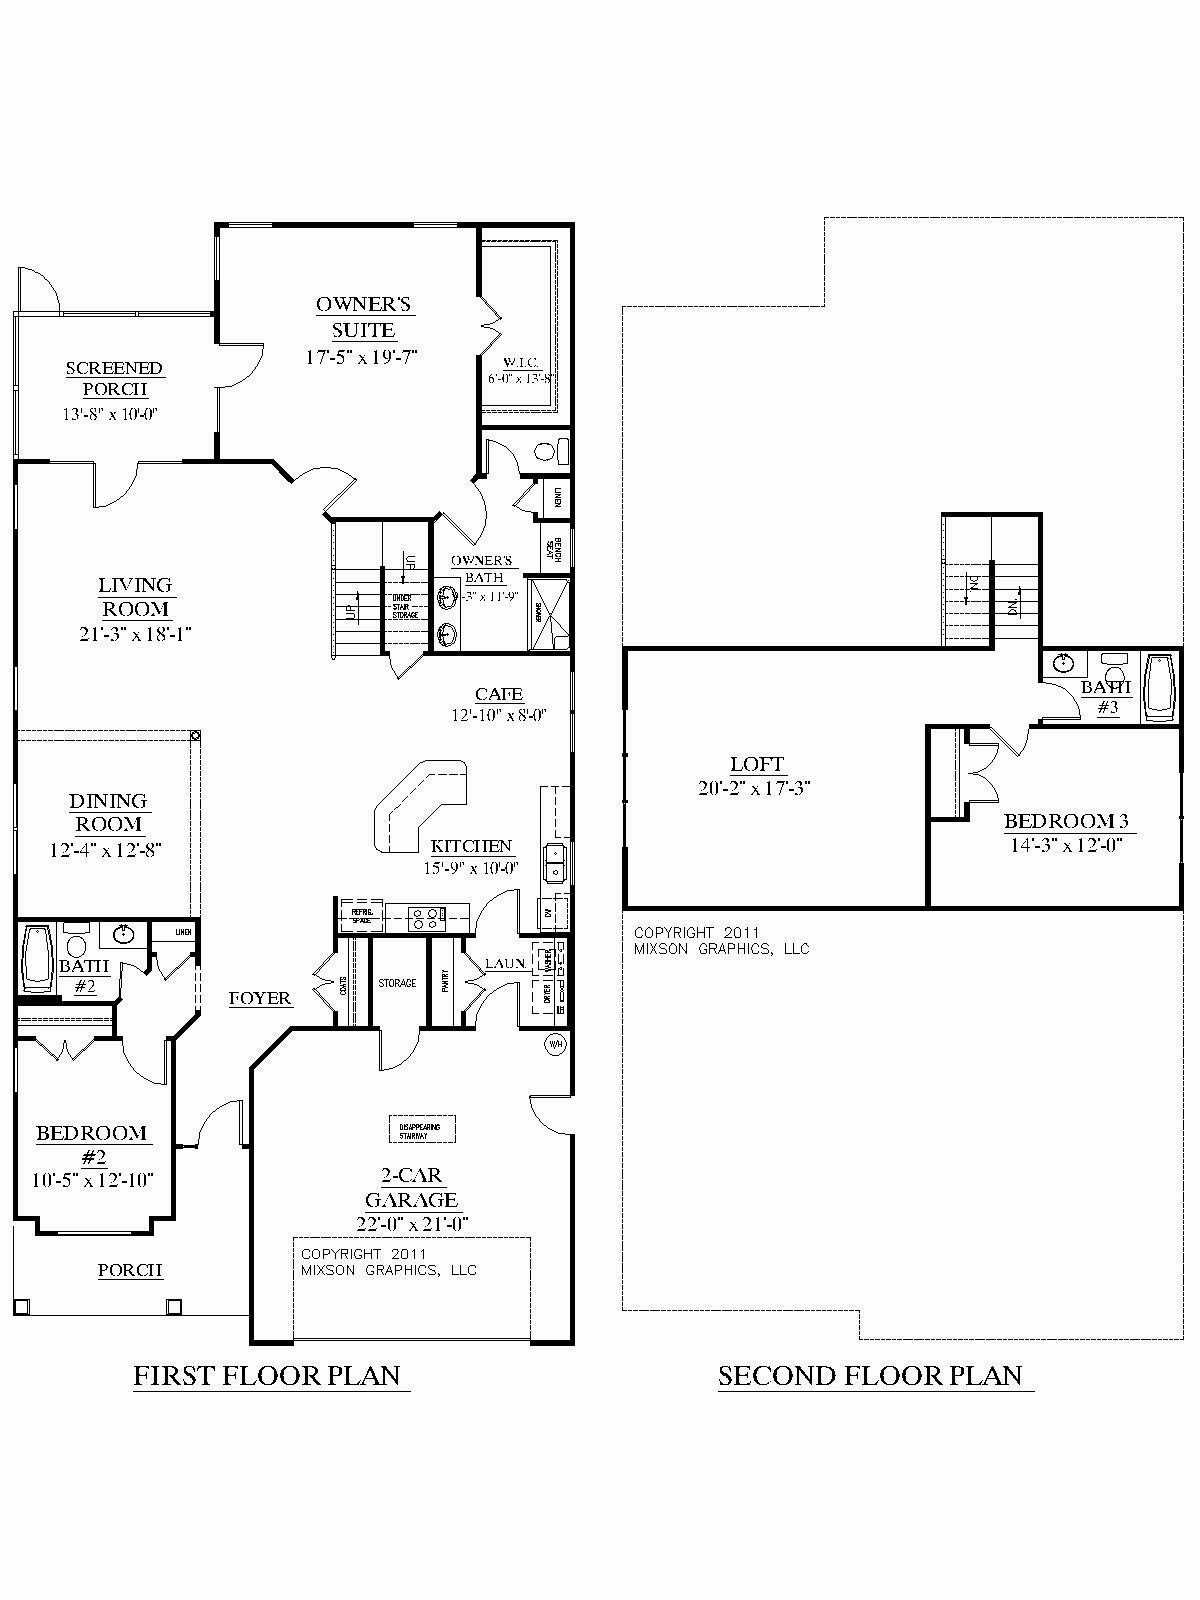door: (79, 465, 146, 511), (182, 1091, 246, 1138), (216, 334, 265, 391), (968, 738, 1003, 815)
